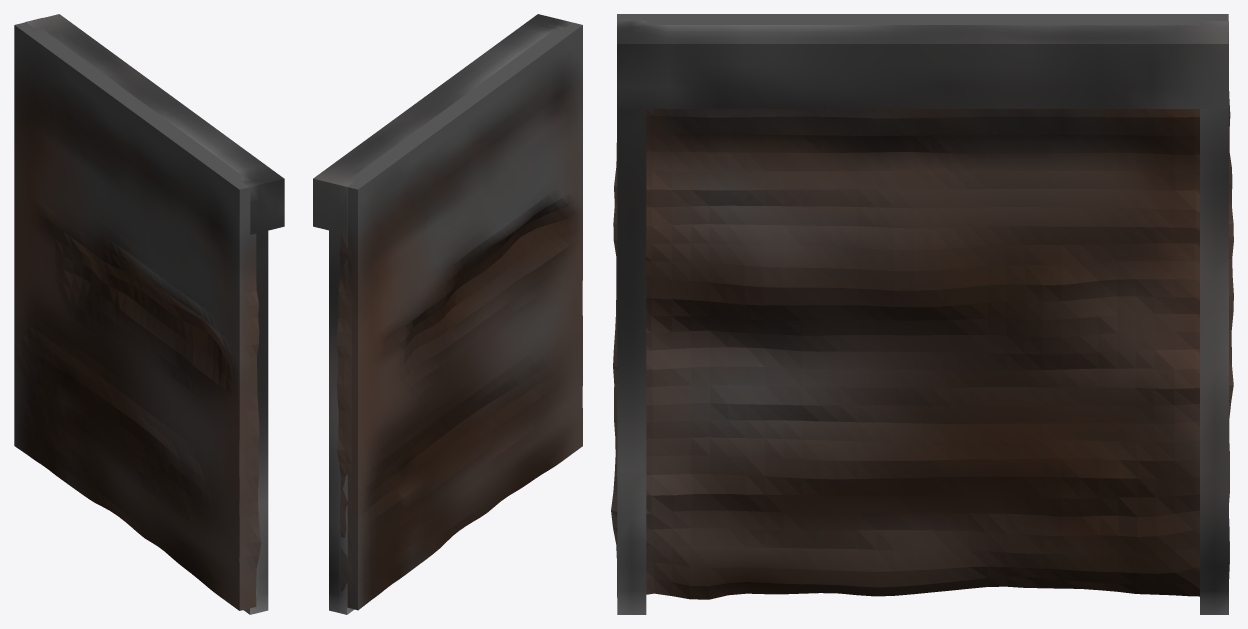
Rendered from Porte base.fbx.
3 renders of one model, left to right at view 1: azimuth 30°, elevation 25°; view 2: azimuth 150°, elevation 25°; view 3: azimuth 270°, elevation 25°, orthographic. The views are drawn at different scales.
Parts seen in each view (by area): view 1: Porte; view 2: Porte; view 3: Porte.
Boxes of the visible parts, bbox=[...] form: Porte: bbox=[14, 14, 284, 614]; Porte: bbox=[313, 14, 582, 614]; Porte: bbox=[611, 14, 1233, 614].
Bounding box in the file's own units: 0.4005 × 3.58 × 3.47.
